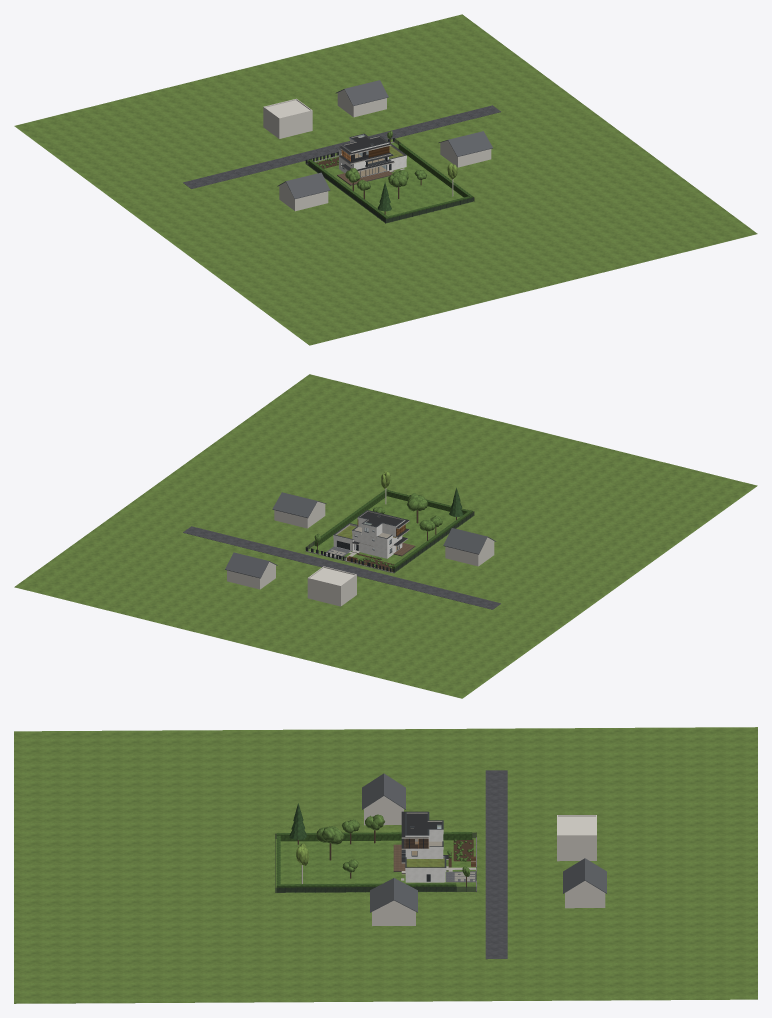
File: budynek.obj
3 renders of one model, top to bottom at view 1: azimuth 30°, elevation 25°; view 2: azimuth 150°, elevation 25°; view 3: azimuth 270°, elevation 25°, orthographic. The views are drawn at different scales.
Visible parts, largest first — view 1: TEREN|TEREN_POZA, TEREN|TEREN_TRAWA, DROGA-1KDD|NAW_ASFALT, SASIAD-118_2|SASIEDNI_SCIANA, OGR4|SIATKA, SASIAD-123_3|SASIEDNI_DACH, SASIAD-118_3|SASIEDNI_DACH, SASIAD-123_5|SASIEDNI_DACH, SASIAD-123_3|SASIEDNI_SCIANA, SASIAD-118_3|SASIEDNI_SCIANA, SASIAD-123_5|SASIEDNI_SCIANA, Z2|ZYWOPLOT (+1 smaller); view 2: TEREN|TEREN_POZA, DROGA-1KDD|NAW_ASFALT, TEREN|TEREN_TRAWA, SASIAD-118_2|SASIEDNI_SCIANA, SASIAD-123_3|SASIEDNI_DACH, SASIAD-123_5|SASIEDNI_DACH, SASIAD-118_3|SASIEDNI_DACH, SASIAD-123_3|SASIEDNI_SCIANA, SASIAD-118_3|SASIEDNI_SCIANA, SASIAD-123_5|SASIEDNI_SCIANA, Z2|ZYWOPLOT, Z3|ZYWOPLOT; view 3: TEREN|TEREN_POZA, TEREN|TEREN_TRAWA, DROGA-1KDD|NAW_ASFALT, SASIAD-118_2|SASIEDNI_SCIANA, Z3|ZYWOPLOT, SASIAD-123_5|SASIEDNI_DACH, SASIAD-123_3|SASIEDNI_DACH, SASIAD-118_3|SASIEDNI_DACH, Z2|ZYWOPLOT, OGR4|SIATKA, SASIAD-123_5|SASIEDNI_SCIANA, SASIAD-118_3|SASIEDNI_SCIANA (+2 smaller).
Part boxes in pixels (x1,y1,x2,y2): TEREN|TEREN_POZA: [14, 14, 757, 345]; TEREN|TEREN_TRAWA: [306, 142, 473, 223]; DROGA-1KDD|NAW_ASFALT: [183, 105, 500, 188]; SASIAD-118_2|SASIEDNI_SCIANA: [263, 98, 312, 138]; OGR4|SIATKA: [306, 138, 473, 223]; SASIAD-123_3|SASIEDNI_DACH: [277, 172, 330, 198]; SASIAD-118_3|SASIEDNI_DACH: [335, 80, 388, 106]; SASIAD-123_5|SASIEDNI_DACH: [438, 131, 492, 156]; SASIAD-123_3|SASIEDNI_SCIANA: [279, 182, 328, 211]; SASIAD-118_3|SASIEDNI_SCIANA: [337, 89, 386, 117]; SASIAD-123_5|SASIEDNI_SCIANA: [440, 140, 491, 167]; Z2|ZYWOPLOT: [308, 159, 388, 222]; TEREN|TEREN_POZA: [14, 374, 757, 698]; DROGA-1KDD|NAW_ASFALT: [183, 526, 500, 609]; TEREN|TEREN_TRAWA: [308, 496, 472, 572]; SASIAD-118_2|SASIEDNI_SCIANA: [307, 566, 356, 606]; SASIAD-123_3|SASIEDNI_DACH: [443, 528, 496, 554]; SASIAD-123_5|SASIEDNI_DACH: [272, 492, 326, 518]; SASIAD-118_3|SASIEDNI_DACH: [225, 552, 277, 578]; SASIAD-123_3|SASIEDNI_SCIANA: [445, 537, 494, 566]; SASIAD-118_3|SASIEDNI_SCIANA: [227, 562, 275, 589]; SASIAD-123_5|SASIEDNI_SCIANA: [274, 501, 325, 528]; Z2|ZYWOPLOT: [392, 510, 472, 571]; Z3|ZYWOPLOT: [314, 489, 388, 546]; TEREN|TEREN_POZA: [14, 727, 757, 1003]; TEREN|TEREN_TRAWA: [275, 838, 475, 892]; DROGA-1KDD|NAW_ASFALT: [485, 770, 507, 959]; SASIAD-118_2|SASIEDNI_SCIANA: [557, 815, 596, 861]; Z3|ZYWOPLOT: [276, 883, 456, 892]; SASIAD-123_5|SASIEDNI_DACH: [370, 878, 417, 912]; SASIAD-123_3|SASIEDNI_DACH: [362, 773, 405, 809]; SASIAD-118_3|SASIEDNI_DACH: [563, 858, 606, 893]; Z2|ZYWOPLOT: [276, 832, 472, 841]; OGR4|SIATKA: [275, 832, 476, 892]; SASIAD-123_5|SASIEDNI_SCIANA: [372, 900, 415, 925]; SASIAD-118_3|SASIEDNI_SCIANA: [565, 881, 605, 908].
Size of the model in its own units: 162 by 12.34 by 185.
60 materials, 25 textured.
